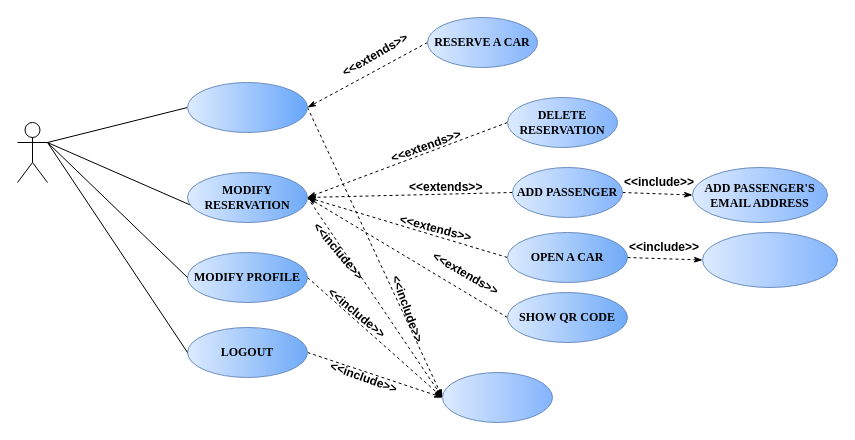
Image size: 855x440. Some labels were removed from this diagram. The shapes that lost their labels are listed below. From the top down, each one's centre as x and y in pixels, then its label:
point (247, 107): SEARCH AVAILABLE CARS
point (32, 152): User
point (770, 260): FILL IN WITH CAR CODE
point (497, 397): SIGN IN
